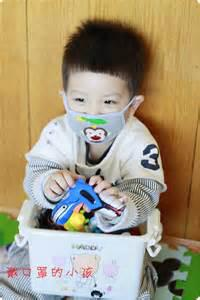WRONG: (69, 85, 126, 142)
